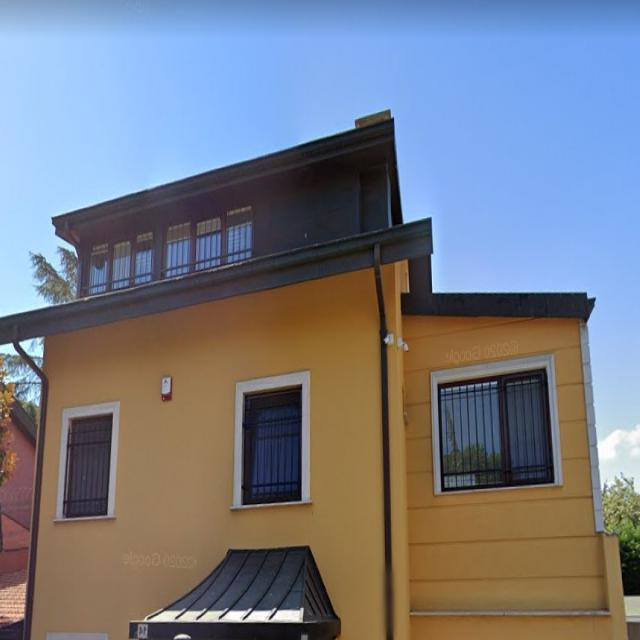Building: (0, 120, 628, 640)
